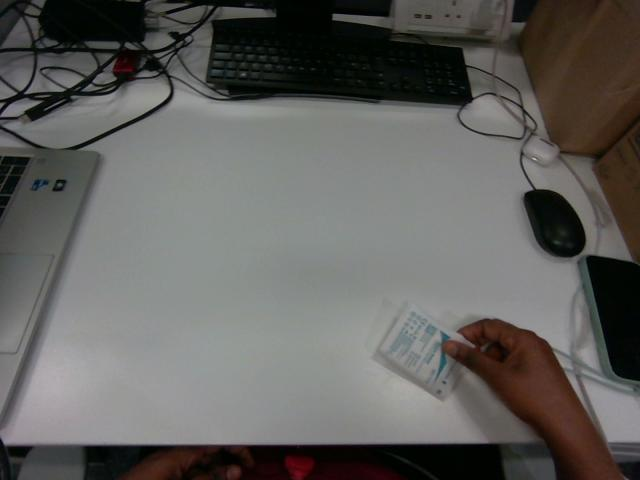gauze: (376, 302, 471, 399)
